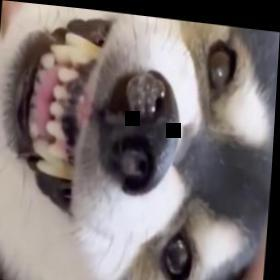nasal_discharge: (101, 57, 185, 199)
